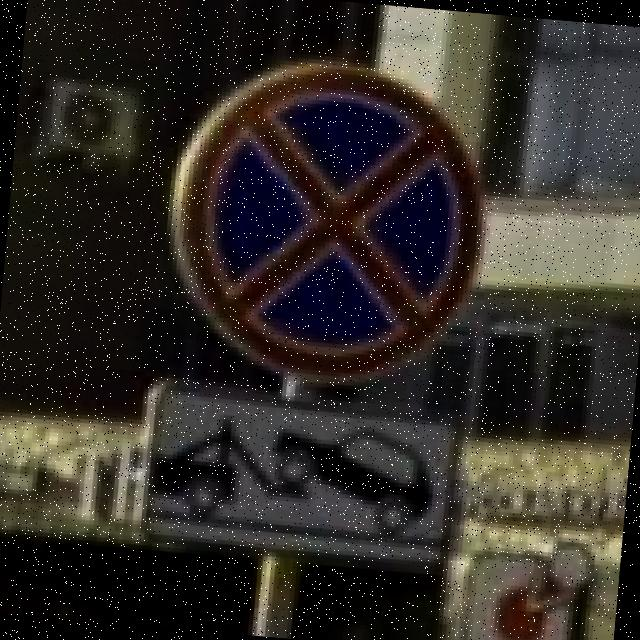Zakaz zatrzymywania sie: (154, 43, 504, 400)
